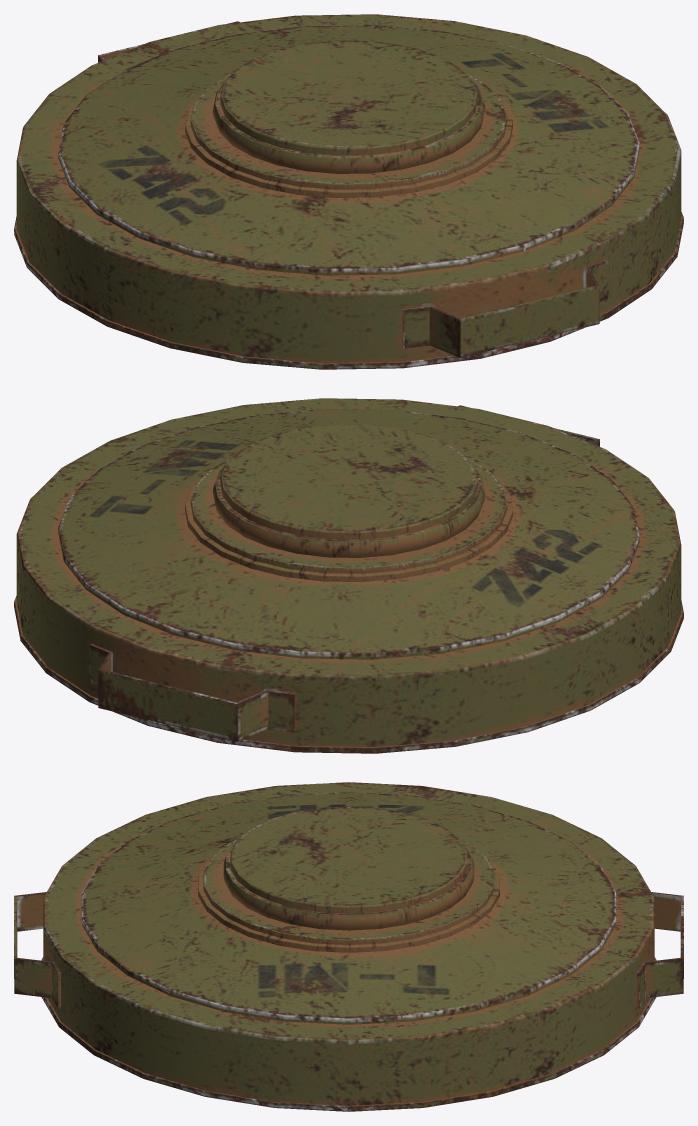
File: tellermine-42.glb
3 views of the same model, one above another, from view 1: azimuth 30°, elevation 25°; view 2: azimuth 150°, elevation 25°; view 3: azimuth 270°, elevation 25° (orthographic). The views are drawn at different scales.
Visible parts, largest first — view 1: polySurface1, polySurface4; view 2: polySurface1, polySurface2; view 3: polySurface1, polySurface2, polySurface4.
Boxes of the visible parts, x1=… form: polySurface1: x1=14, y1=14, x2=683, y2=369; polySurface4: x1=402, y1=259, x2=608, y2=357; polySurface1: x1=14, y1=398, x2=683, y2=753; polySurface2: x1=89, y1=643, x2=295, y2=741; polySurface1: x1=41, y1=782, x2=656, y2=1111; polySurface2: x1=637, y1=892, x2=683, y2=1008; polySurface4: x1=14, y1=892, x2=60, y2=1008.
Bounding box in the file's own units: 0.0403 × 0.00893 × 0.0435.
1 material, 1 textured.
